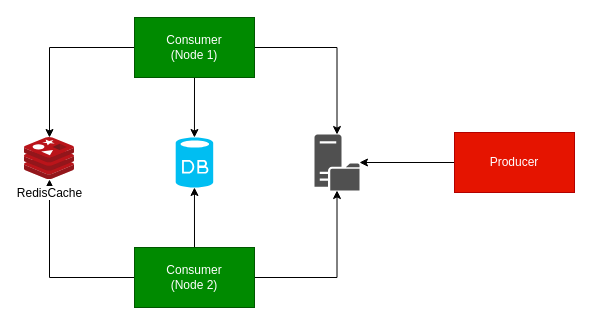
This 592x325 diagram has some shape labels left out. Each missing label, with the box of its shape:
File Share: (314, 134, 359, 190)
MongoDB: (175, 137, 213, 187)
